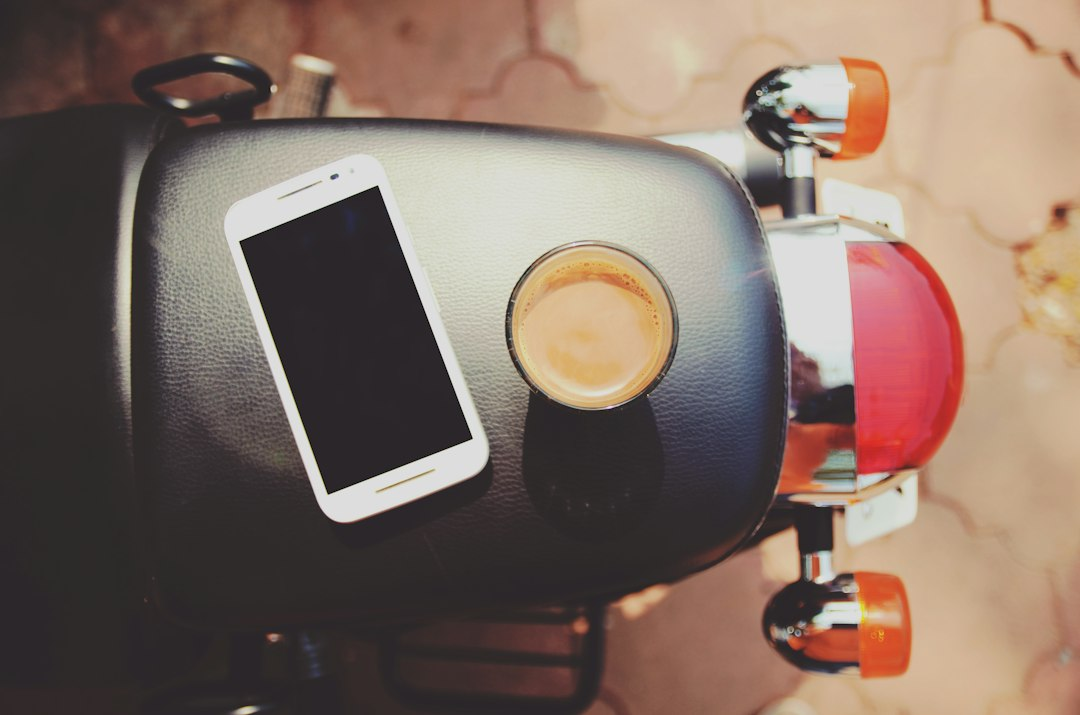phone: (217, 151, 499, 527)
